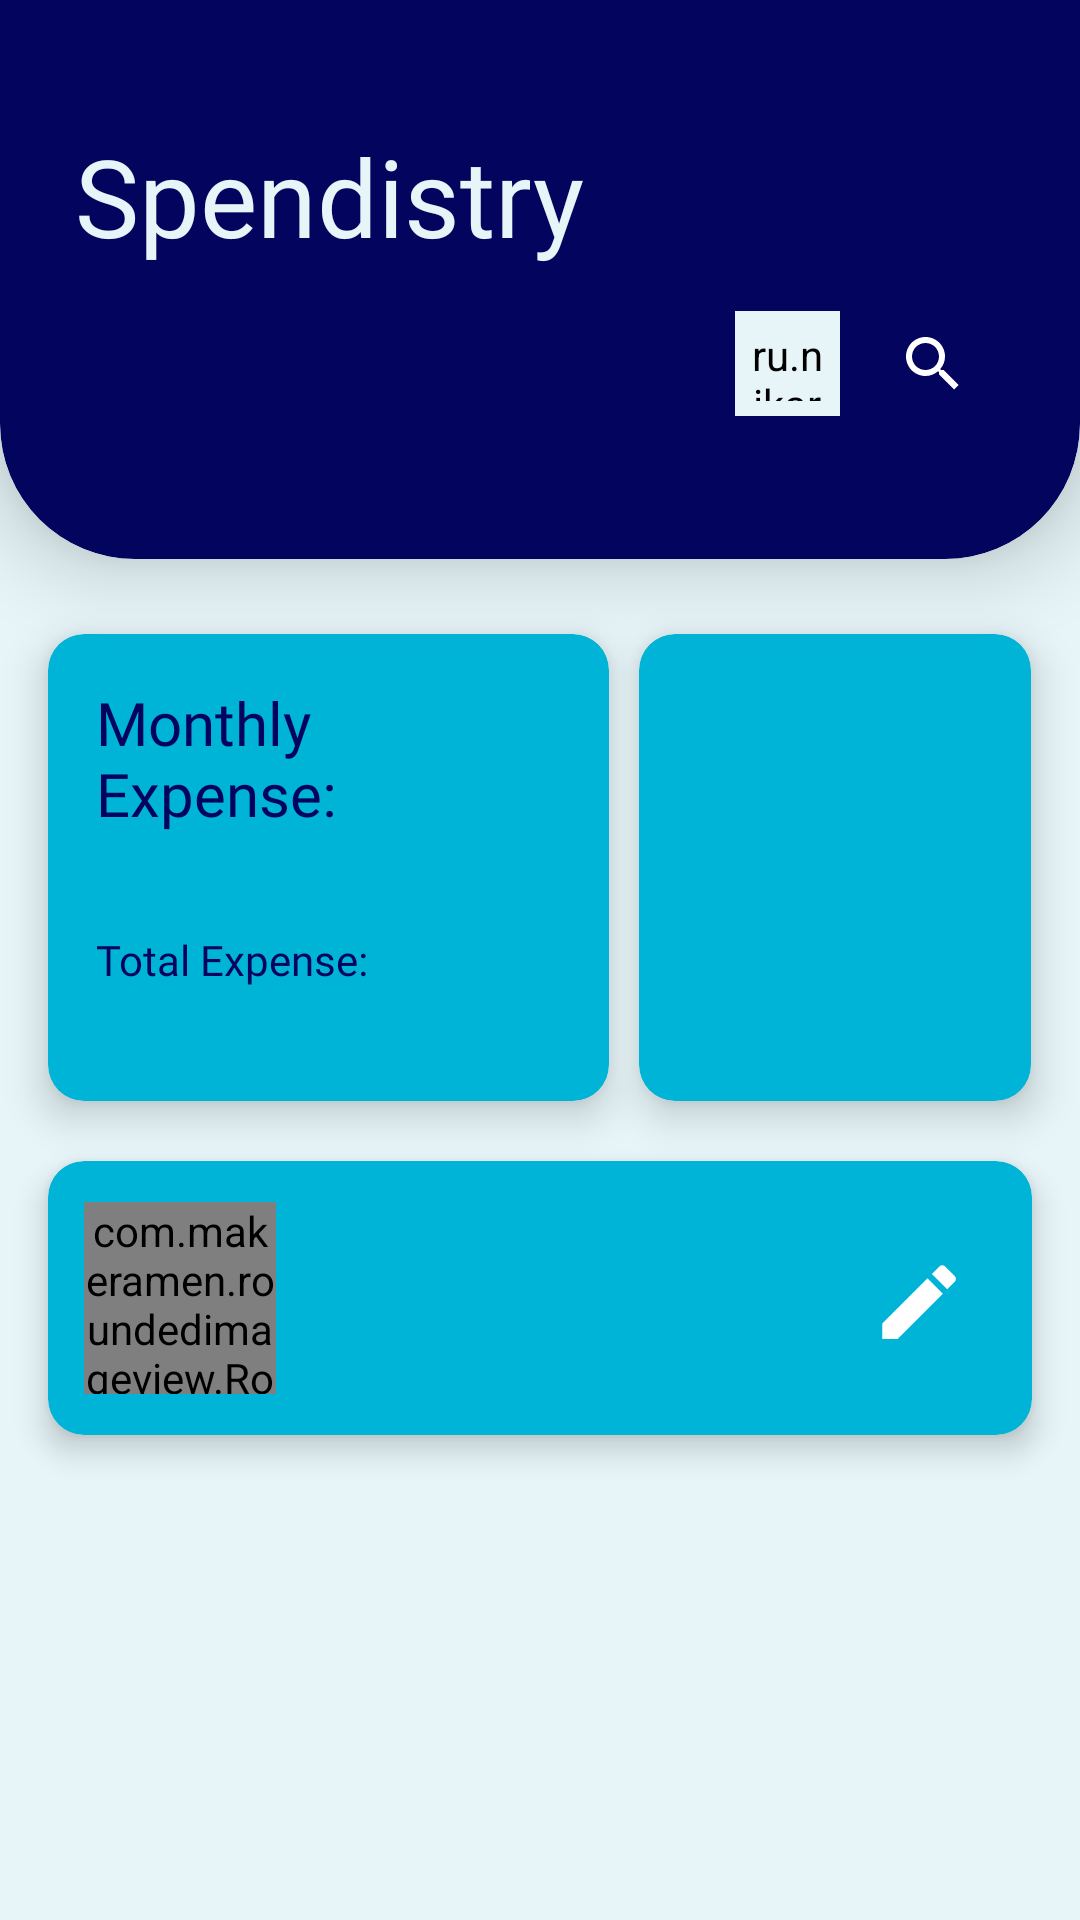

Icon click points for this 1080 x 1920 phone screenshot, format (x=x, y=y):
edit: (x=919, y=1302)
